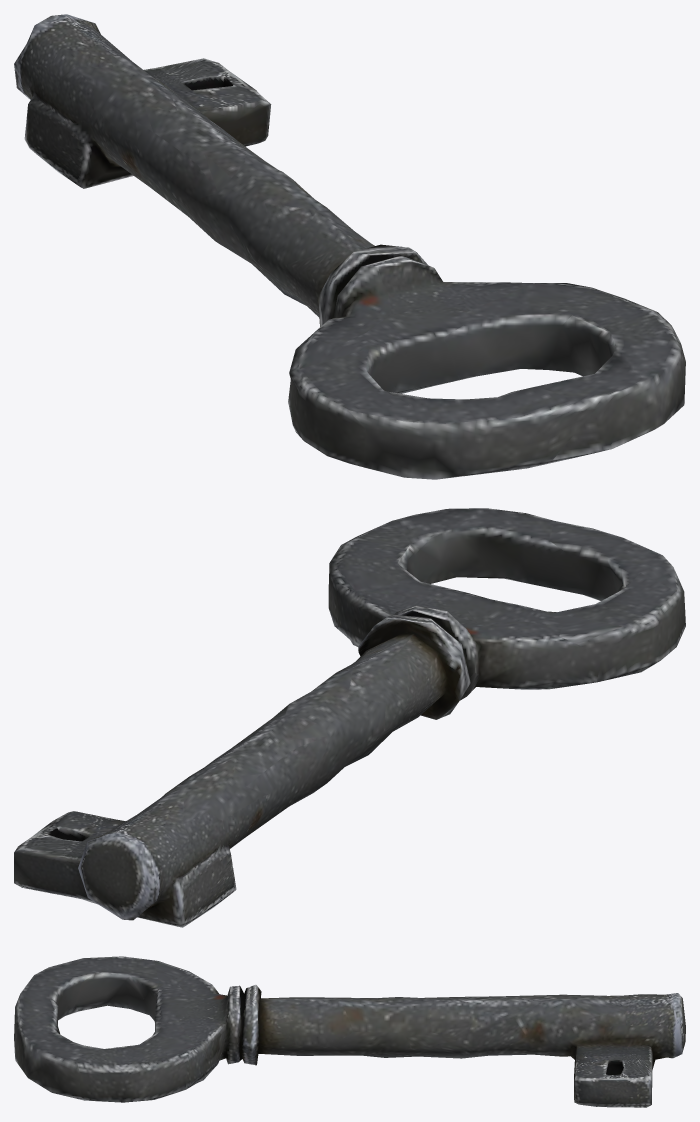
Rendered from key.3887056bb1.glb.
3 views of the same model, one above another, from view 1: azimuth 30°, elevation 25°; view 2: azimuth 150°, elevation 25°; view 3: azimuth 270°, elevation 25° (orthographic). The views are drawn at different scales.
Parts seen in each view (by area): view 1: key; view 2: key; view 3: key.
Boxes of the visible parts, x1,y1,x2,y2 form: key: [14, 14, 685, 479]; key: [14, 508, 685, 927]; key: [14, 956, 685, 1107].
Size of the model in its own units: 0.0278 by 0.00839 by 0.07.
1 material, 1 textured.
